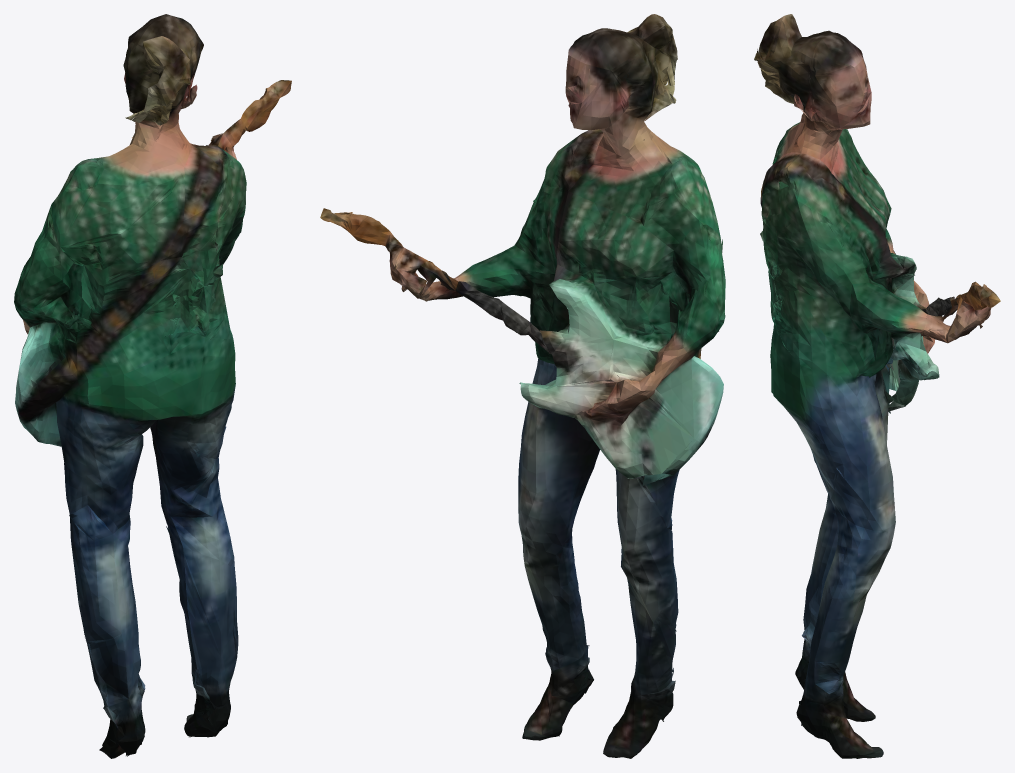
The picture shows the model from 3 angles, left to right: view 1: azimuth 30°, elevation 25°; view 2: azimuth 150°, elevation 25°; view 3: azimuth 270°, elevation 25°; orthographic projection. The views are drawn at different scales.
Parts seen in each view (by area): view 1: dec_0006; view 2: dec_0006; view 3: dec_0006.
Boxes of the visible parts, bbox=[...] form: dec_0006: bbox=[14, 14, 291, 758]; dec_0006: bbox=[320, 14, 725, 758]; dec_0006: bbox=[754, 14, 1000, 758].
Size of the model in its own units: 0.8313 by 1.72 by 0.543.
1 material, 1 textured.
